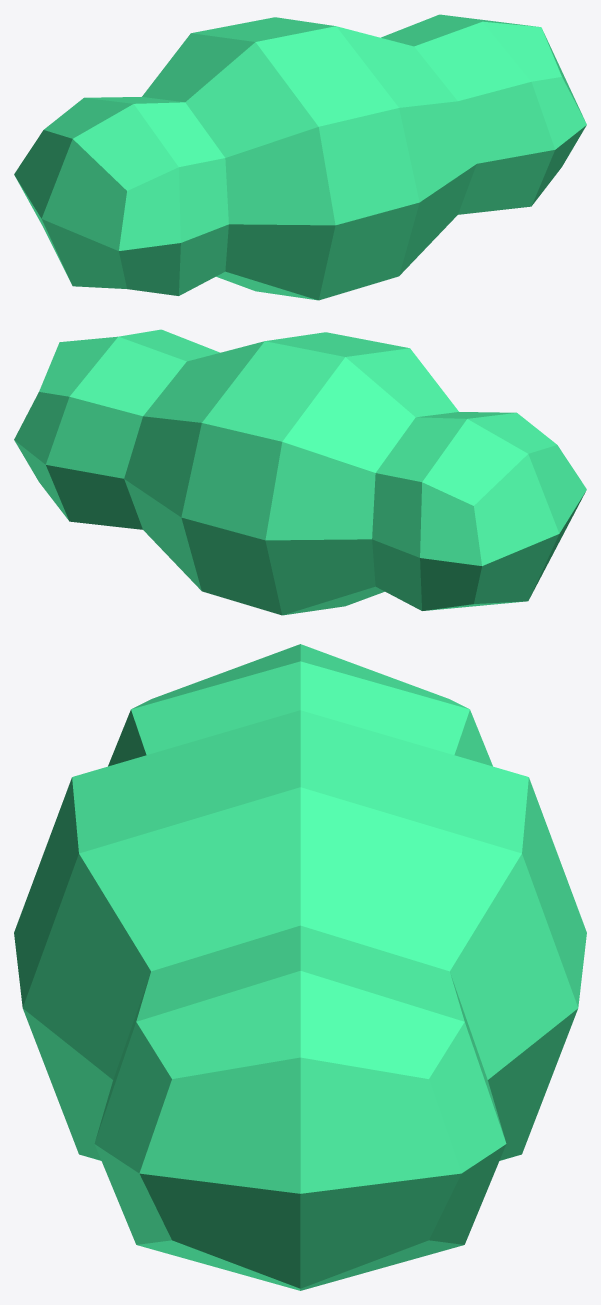
The model's file is cloud1.fbx.
3 renders of one model, top to bottom at view 1: azimuth 30°, elevation 25°; view 2: azimuth 150°, elevation 25°; view 3: azimuth 270°, elevation 25°, orthographic. The views are drawn at different scales.
Parts seen in each view (by area): view 1: cloud1; view 2: cloud1; view 3: cloud1.
Boxes of the visible parts, box(x1,y1,x2,y2) form: cloud1: box(14, 14, 586, 300); cloud1: box(14, 329, 586, 615); cloud1: box(14, 644, 586, 1290).
Size of the model in its own units: 3.06 by 1.39 by 1.63.
